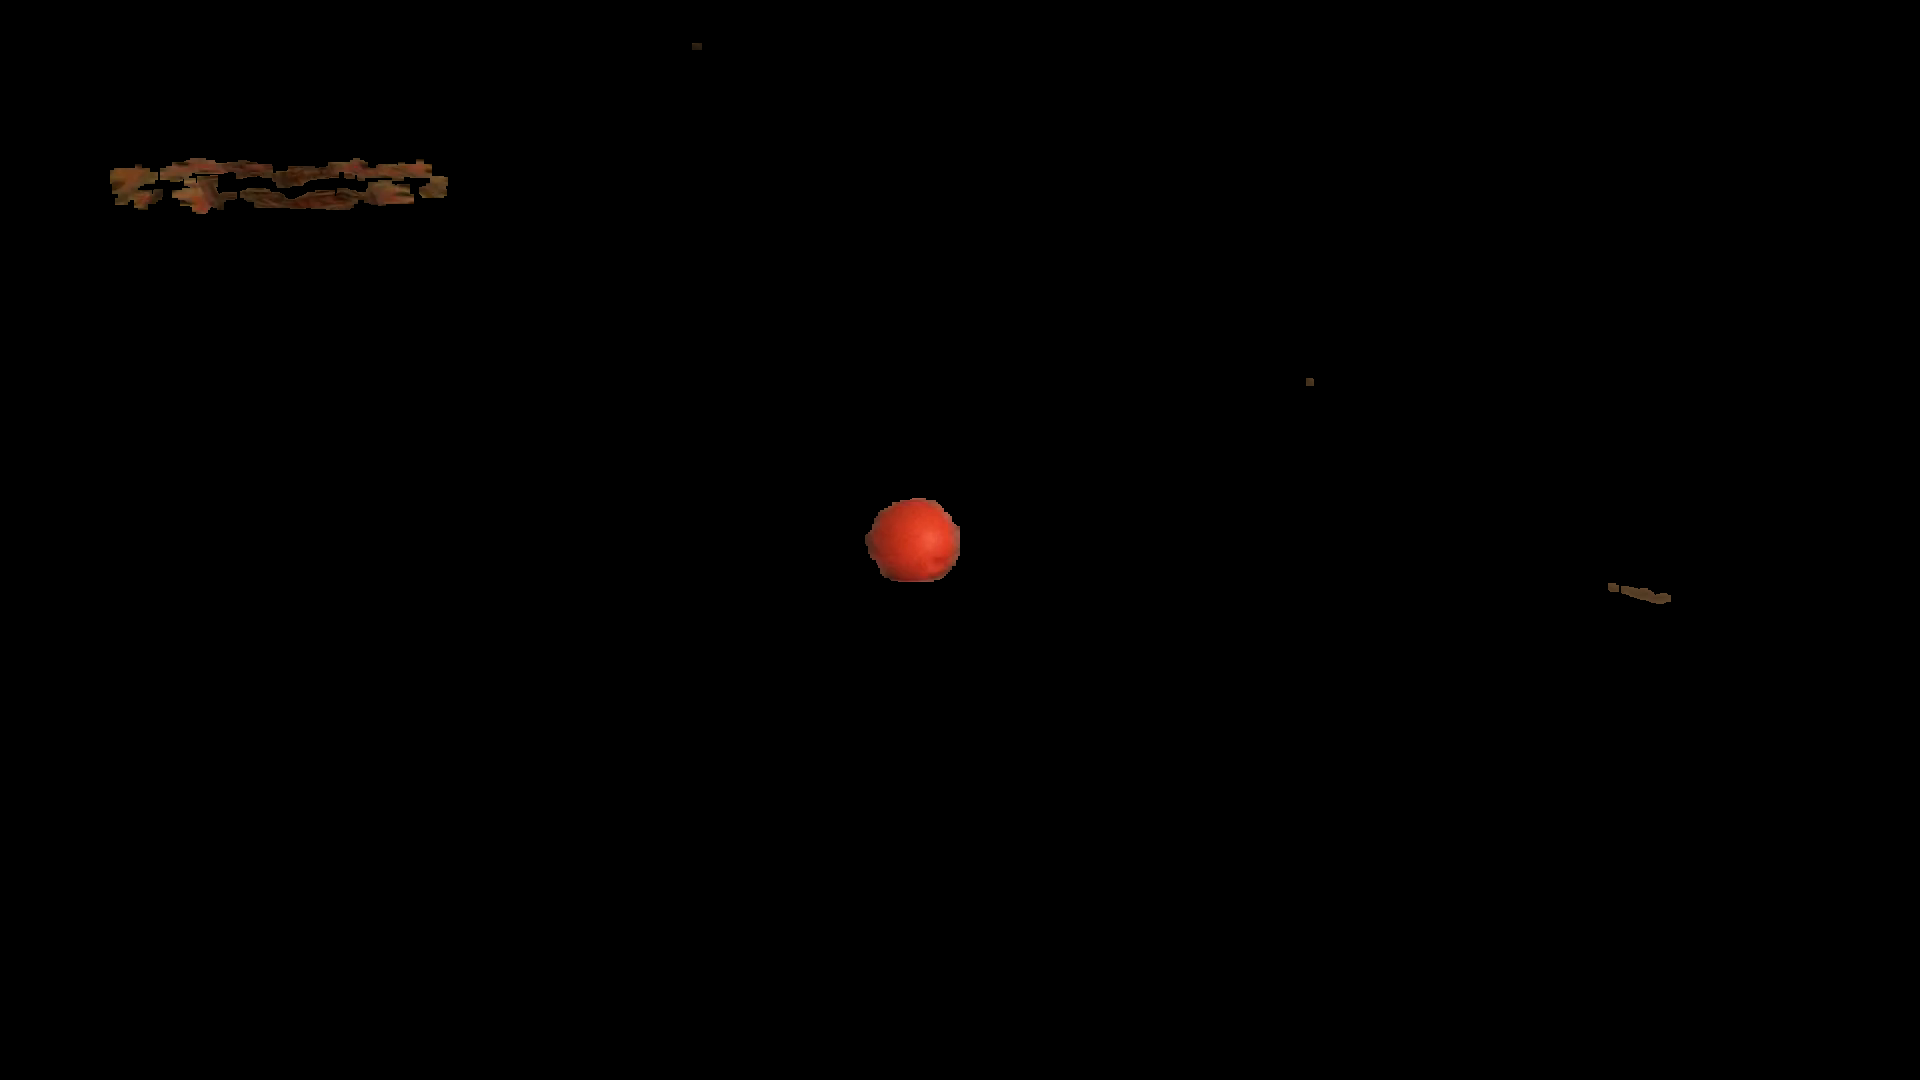Ball: (866, 496, 963, 582)
